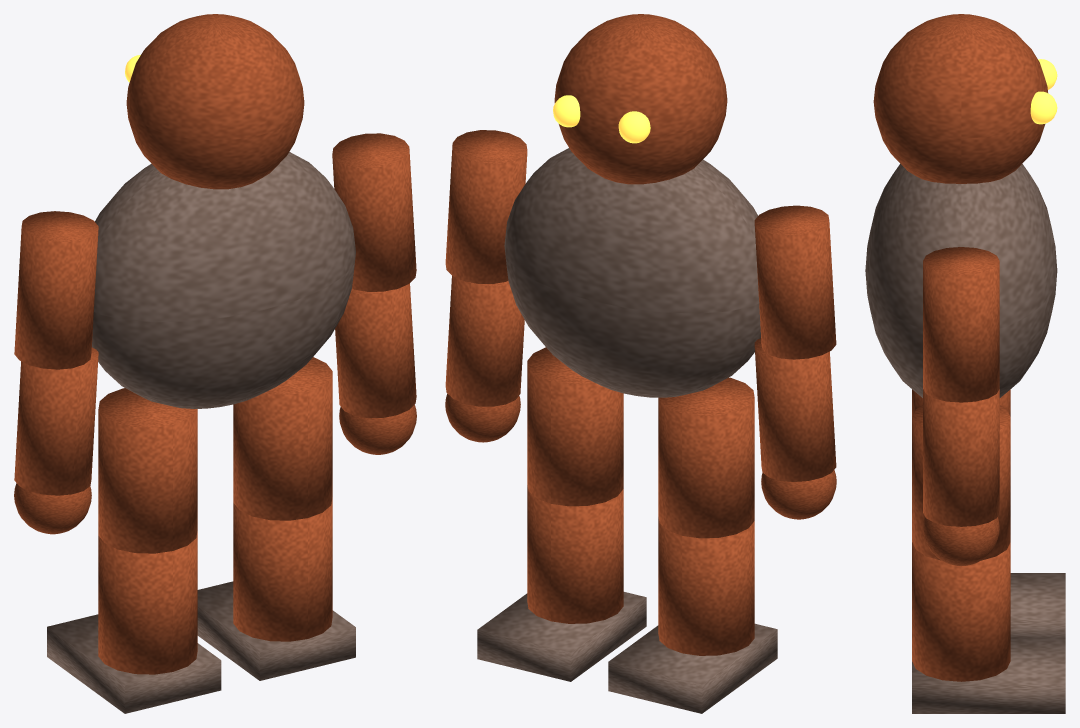
The model's file is fire-elemental.glb.
The picture shows the model from 3 angles, left to right: view 1: azimuth 30°, elevation 25°; view 2: azimuth 150°, elevation 25°; view 3: azimuth 270°, elevation 25°; orthographic projection. The views are drawn at different scales.
Parts seen in each view (by area): view 1: Torso, Head, ThighL, ThighR, ShinR, ShinL, UpperArmL, UpperArmR, ForearmL, ForearmR, FootL, FootR (+2 smaller); view 2: Torso, Head, ThighL, ThighR, ShinR, ShinL, UpperArmL, UpperArmR, ForearmL, ForearmR, FootL, FootR (+4 smaller); view 3: Torso, Head, ShinR, UpperArmR, ForearmR, FootR, FootL, ThighR, HandR, Eye.001, ThighL, Eye.
Part boxes in pixels (<box>): Torso: <box>92,152,355,408</box>; Head: <box>126,14,304,189</box>; ThighL: <box>98,388,197,553</box>; ThighR: <box>233,357,332,520</box>; ShinR: <box>233,497,332,641</box>; ShinL: <box>98,531,197,674</box>; UpperArmL: <box>14,211,98,369</box>; UpperArmR: <box>332,133,416,291</box>; ForearmL: <box>14,347,98,495</box>; ForearmR: <box>335,283,416,418</box>; FootL: <box>47,614,221,713</box>; FootR: <box>197,581,355,680</box>; Torso: <box>504,148,760,397</box>; Head: <box>554,14,727,184</box>; ThighL: <box>658,377,754,538</box>; ThighR: <box>527,347,623,506</box>; ShinR: <box>527,485,623,623</box>; ShinL: <box>658,517,754,655</box>; UpperArmL: <box>754,205,836,359</box>; UpperArmR: <box>445,130,527,283</box>; ForearmL: <box>754,338,836,481</box>; ForearmR: <box>445,276,524,406</box>; FootL: <box>608,623,777,713</box>; FootR: <box>477,592,646,681</box>; Torso: <box>865,163,1057,397</box>; Head: <box>873,14,1047,183</box>; ShinR: <box>912,542,1010,681</box>; UpperArmR: <box>923,247,999,402</box>; ForearmR: <box>923,389,999,526</box>; FootR: <box>912,637,1065,713</box>; FootL: <box>1010,573,1065,637</box>; ThighR: <box>912,405,1010,560</box>; HandR: <box>923,517,999,566</box>; Eye.001: <box>1030,91,1057,124</box>; ThighL: <box>912,389,1010,416</box>; Eye: <box>1038,59,1057,89</box>.
Size of the model in its own units: 0.6367 by 1 by 0.2852.
3 materials, 2 textured.
